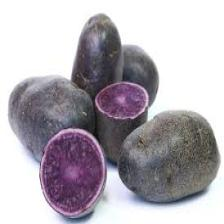Damaged potato: (116, 107, 221, 206), (7, 72, 98, 165), (74, 12, 124, 86)
Defected potato: (38, 127, 108, 222), (94, 77, 149, 166)
